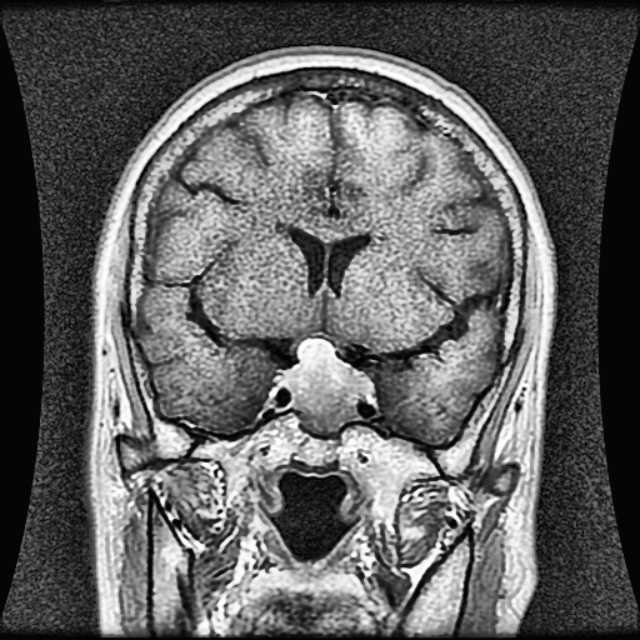Pituitary: (285, 339, 372, 430)
